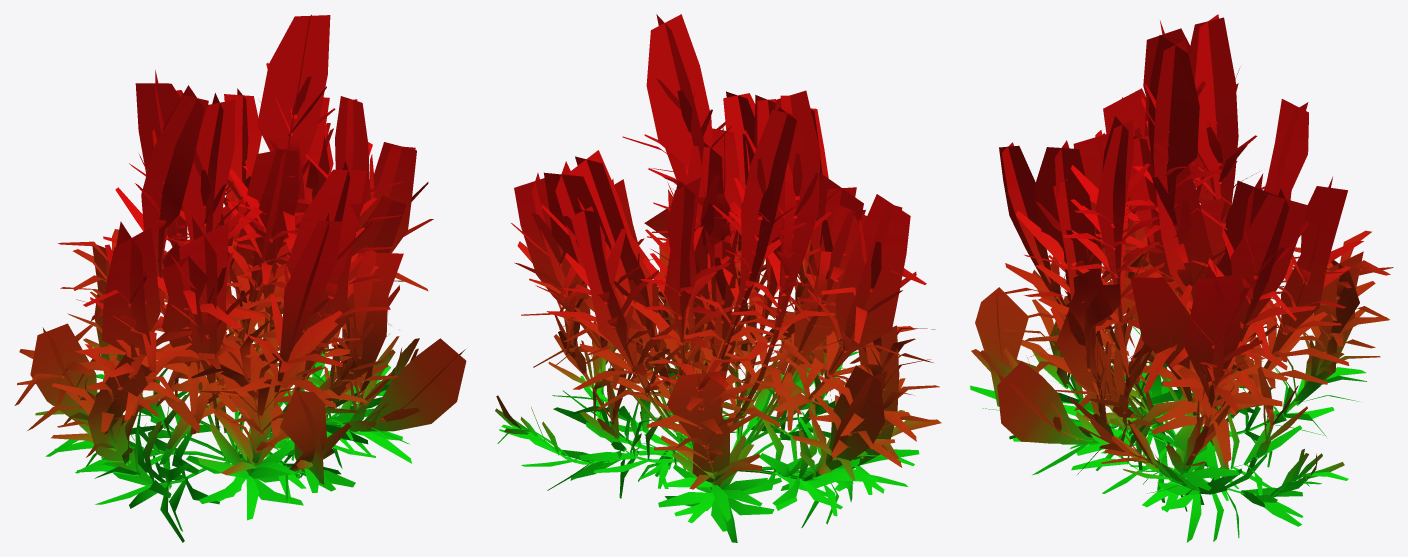
File: Var2_LOD4.fbx
3 views of the same model, side by side, from view 1: azimuth 30°, elevation 25°; view 2: azimuth 150°, elevation 25°; view 3: azimuth 270°, elevation 25° (orthographic). The views are drawn at different scales.
Parts seen in each view (by area): view 1: _vii6_Var2_LOD4; view 2: _vii6_Var2_LOD4; view 3: _vii6_Var2_LOD4.
Boxes of the visible parts, x1,y1,x2,y2 form: _vii6_Var2_LOD4: (14, 14, 466, 542); _vii6_Var2_LOD4: (495, 14, 941, 542); _vii6_Var2_LOD4: (970, 14, 1393, 542).
Bounding box in the file's own units: 26.68 × 30.15 × 23.27.
